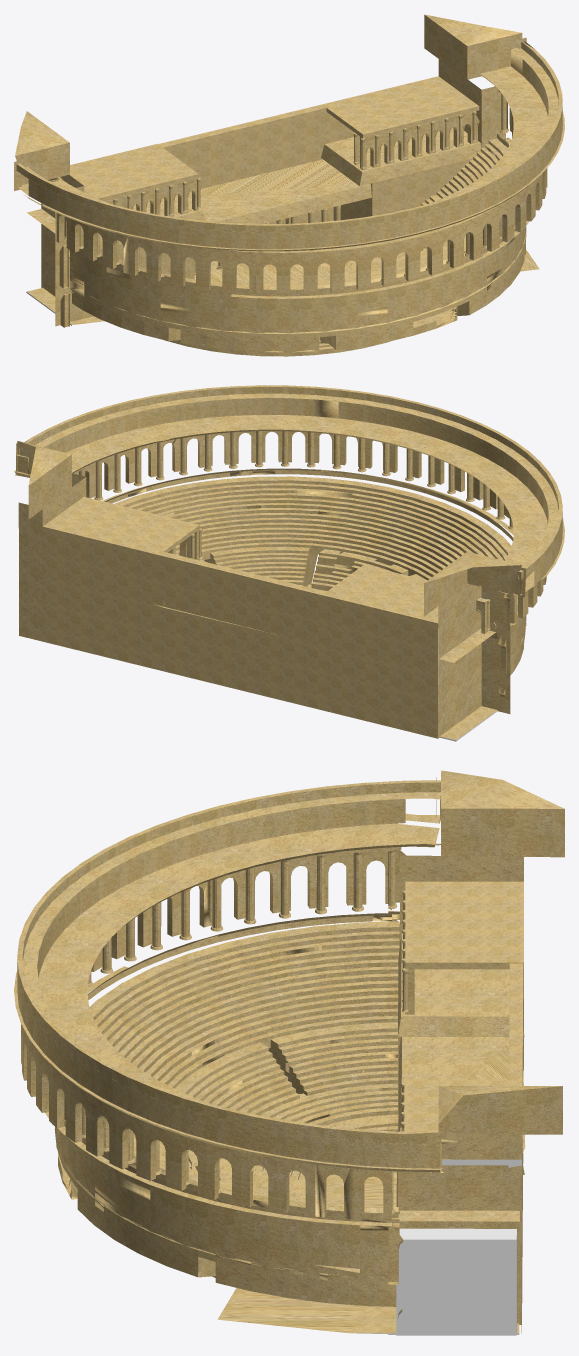
File: level1.glb
3 renders of one model, top to bottom at view 1: azimuth 30°, elevation 25°; view 2: azimuth 150°, elevation 25°; view 3: azimuth 270°, elevation 25°, orthographic. The views are drawn at different scales.
Parts seen in each view (by area): view 1: Material2.002; view 2: Material2.002; view 3: Material2.002.
Boxes of the visible parts, <box> form: Material2.002: <box>14,14,564,356</box>; Material2.002: <box>14,385,564,741</box>; Material2.002: <box>14,770,564,1335</box>.
Bounding box in the file's own units: 46.63 × 15.74 × 30.33.
7 materials, 6 textured.
